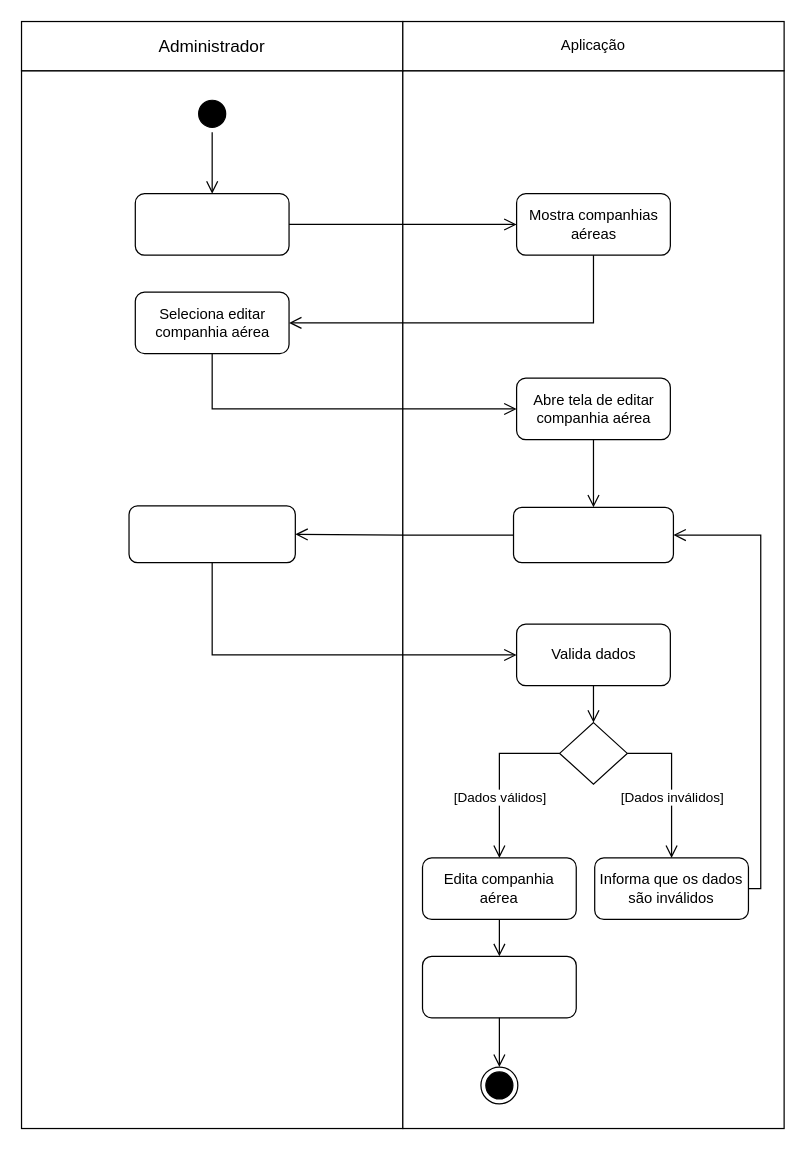
Some shapes in this 806 by 1150 pixel diagram are drawn without their labels. Each missing label, with the centre of its shape:
Entra na tela de ver companhias aéreas: the point at 211,223
Informa que a companhia aérea foi editada com sucesso: the point at 498,986
Insere dados novos (Código ICAO, Nome): the point at 211,534
Mostra dados atuais (Código ICAO, Nome): the point at 592,534
